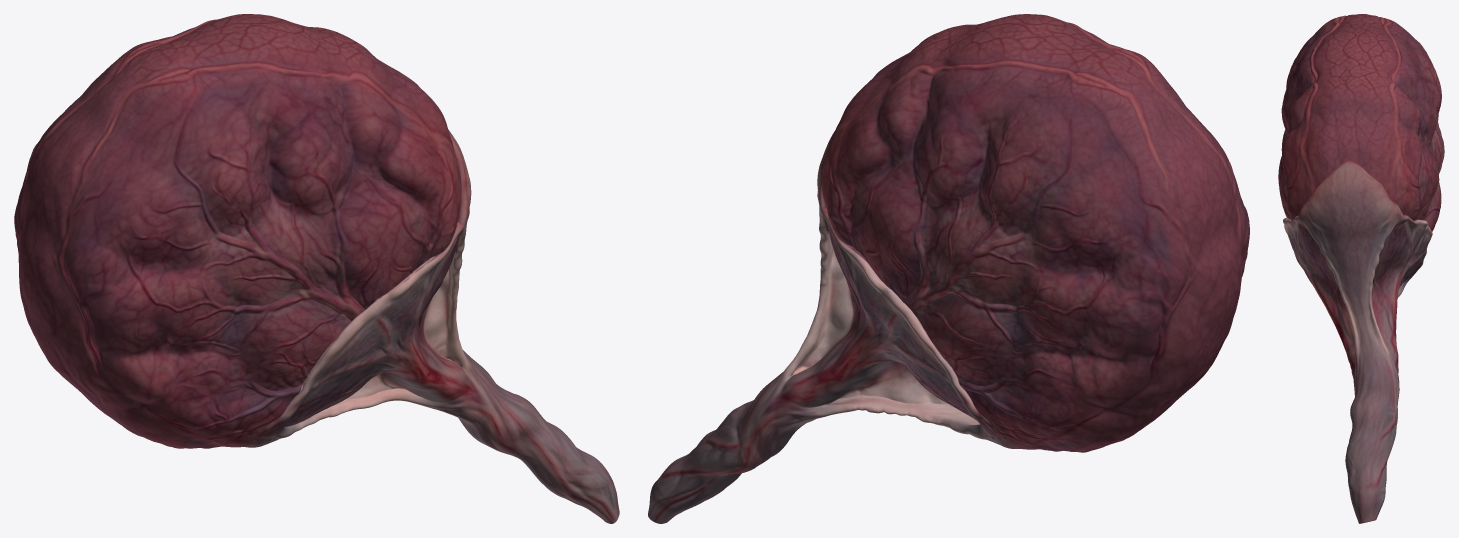
Rendered from PLACENTAENRAQUETA-v1.glb.
3 renders of one model, left to right at view 1: azimuth 30°, elevation 25°; view 2: azimuth 150°, elevation 25°; view 3: azimuth 270°, elevation 25°, orthographic. The views are drawn at different scales.
Bounding box in the file's own units: 1.9 × 1.82 × 0.7271.
1 material, 1 textured.
